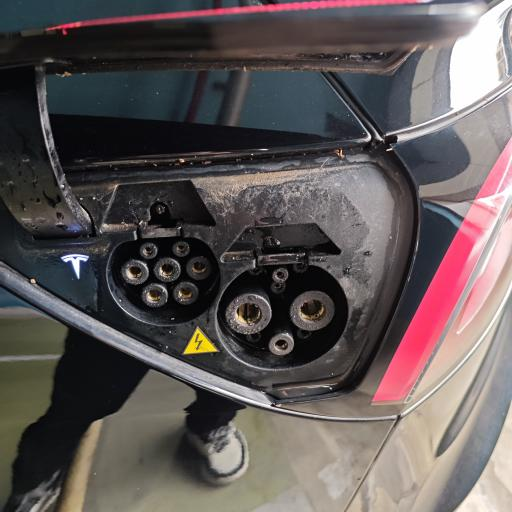AC_charging_hole: (104, 234, 223, 327)
DC_charging_port: (216, 260, 352, 374)
DC_hole: (225, 291, 272, 337), (288, 288, 337, 332)
PE: (267, 332, 296, 358)
